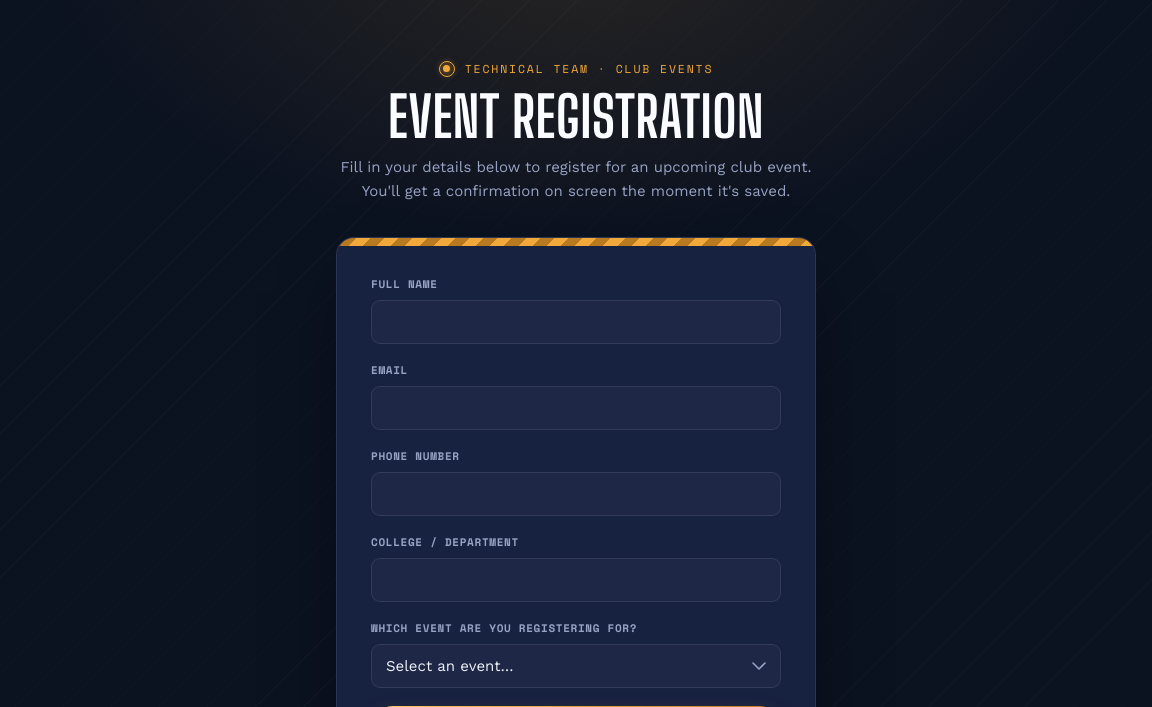
Test: RegistrationForm › submits trimmed values and shows a confirmation banner on success
This screenshot has width=1152, height=707.
Type "  Ada Lovelace  " into the field labelled "Full Name" at coordinates (576, 322), box [371,300,781,344]
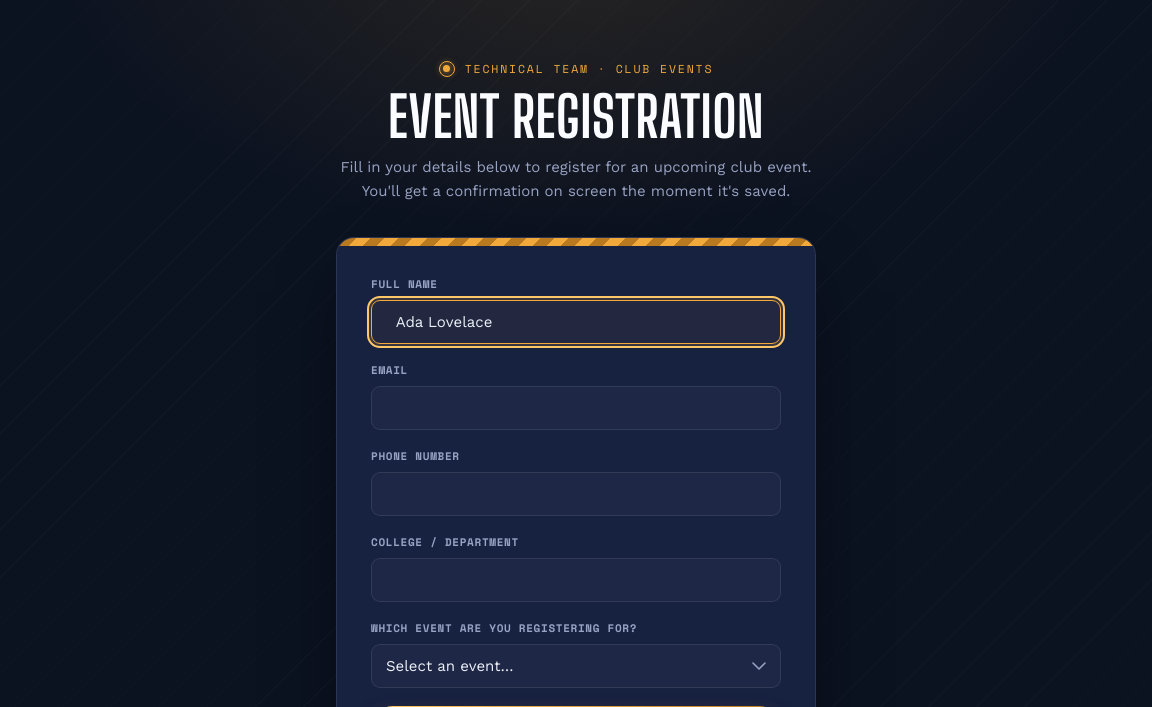
Type "ada@example.com" into the field labelled "Email" at coordinates (576, 408), box [371,386,781,430]
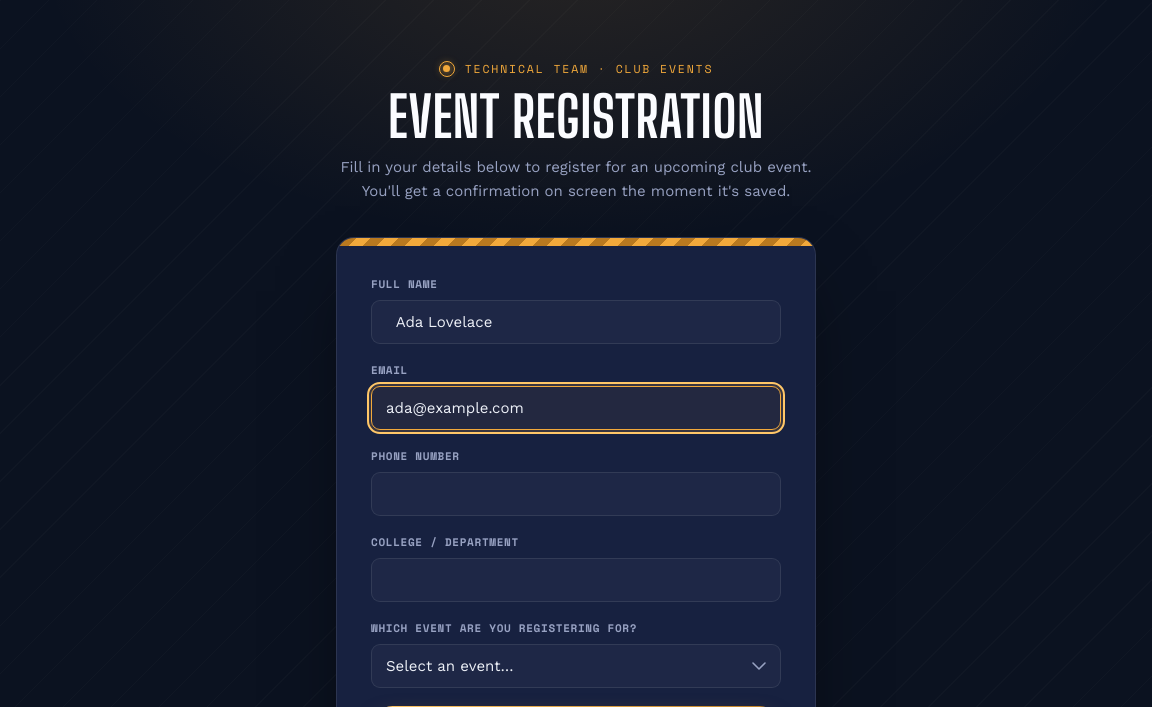
Type "+1 555 123 4567" into the field labelled "Phone Number" at coordinates (576, 494), box [371,472,781,516]
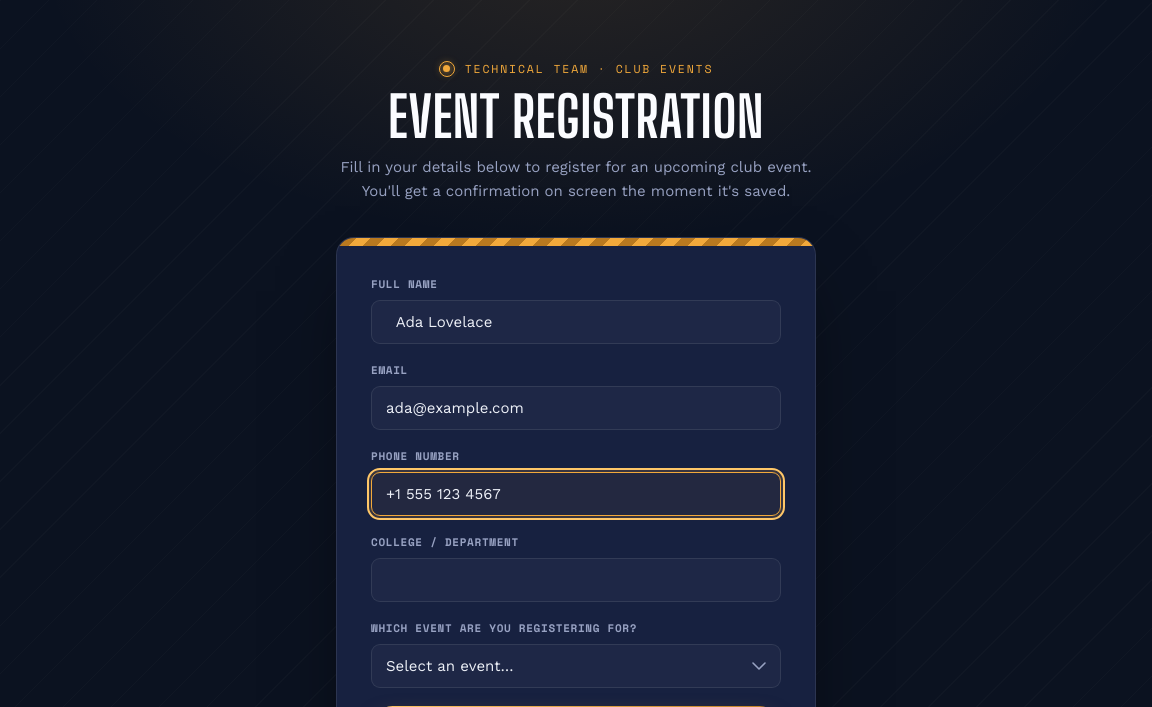
Type "Computer Science" into the field labelled "College / Department" at coordinates (576, 580), box [371,558,781,602]
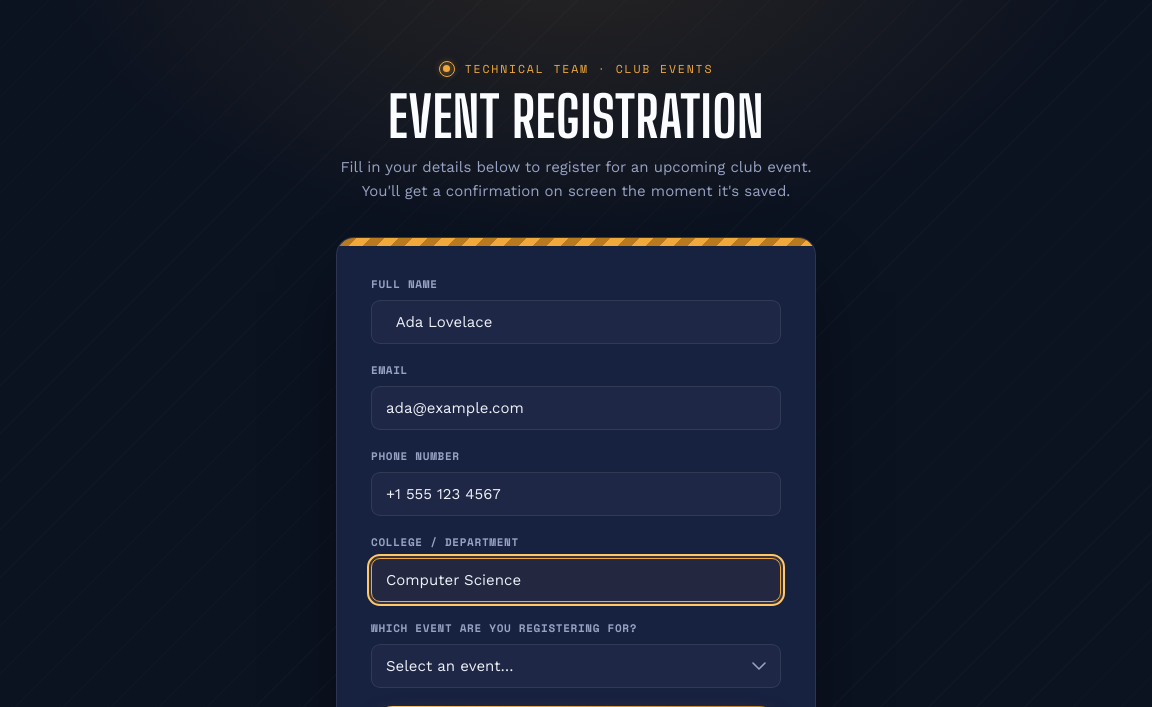
Select "Hackathon 2026" in the dropdown labelled "Which event are you registering for?" at coordinates (576, 666), box [371,644,781,688]
(page scrolled)
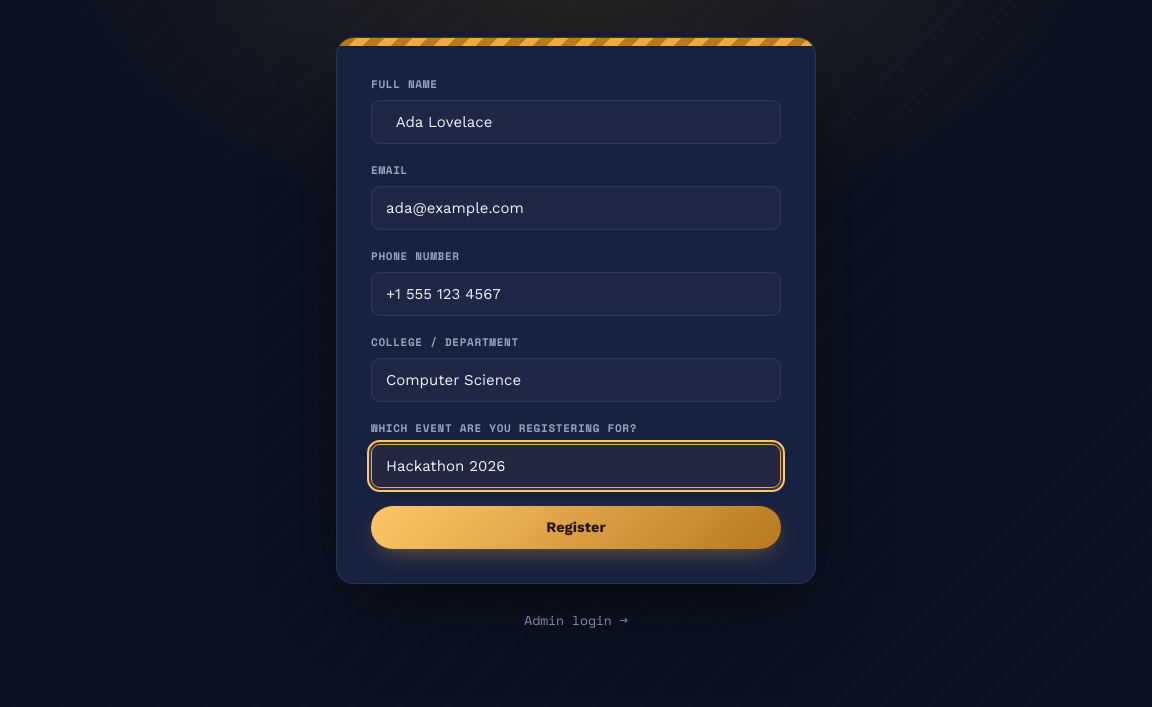
Click the button "Register" at coordinates (576, 528), box [371,506,781,549]
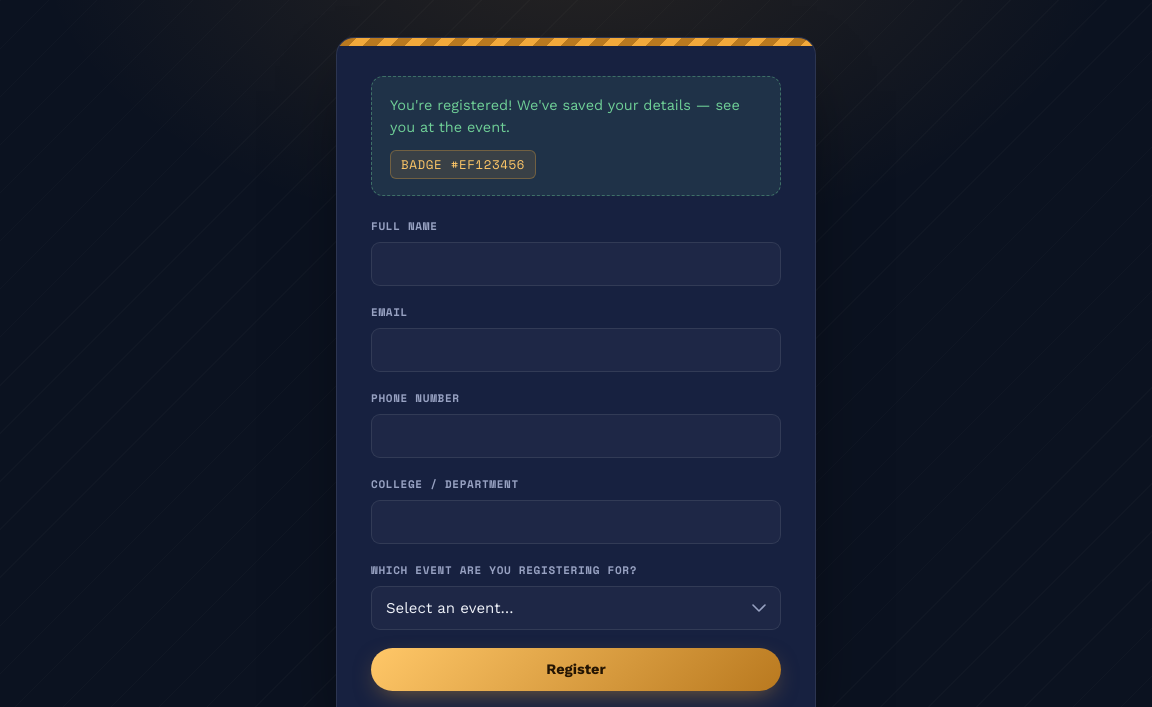
Expected: the message shows "You're registered", [390,97,740,136]
